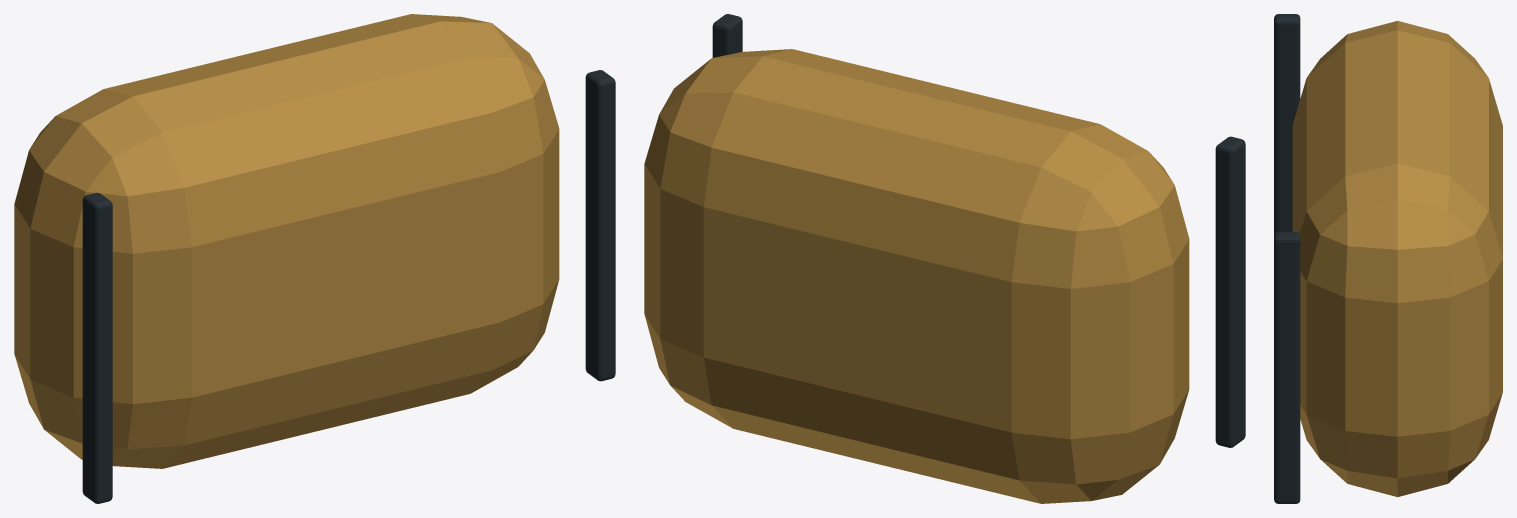
The model's file is APT_Prop_Pillow_Ochre.glb.
3 views of the same model, side by side, from view 1: azimuth 30°, elevation 25°; view 2: azimuth 150°, elevation 25°; view 3: azimuth 270°, elevation 25° (orthographic). The views are drawn at different scales.
Parts seen in each view (by area): view 1: APT_Prop_Pillow_Ochre_Cushion, APT_Prop_Pillow_Ochre_Seam_-0.245, APT_Prop_Pillow_Ochre_Seam_0.245; view 2: APT_Prop_Pillow_Ochre_Cushion, APT_Prop_Pillow_Ochre_Seam_-0.245, APT_Prop_Pillow_Ochre_Seam_0.245; view 3: APT_Prop_Pillow_Ochre_Cushion, APT_Prop_Pillow_Ochre_Seam_0.245, APT_Prop_Pillow_Ochre_Seam_-0.245.
Part boxes in pixels (x1=…): APT_Prop_Pillow_Ochre_Cushion: x1=14, y1=14, x2=559, y2=468; APT_Prop_Pillow_Ochre_Seam_-0.245: x1=82, y1=192, x2=112, y2=503; APT_Prop_Pillow_Ochre_Seam_0.245: x1=585, y1=70, x2=615, y2=381; APT_Prop_Pillow_Ochre_Cushion: x1=644, y1=49, x2=1189, y2=503; APT_Prop_Pillow_Ochre_Seam_-0.245: x1=1215, y1=136, x2=1245, y2=447; APT_Prop_Pillow_Ochre_Seam_0.245: x1=712, y1=14, x2=742, y2=57; APT_Prop_Pillow_Ochre_Cushion: x1=1292, y1=20, x2=1502, y2=497; APT_Prop_Pillow_Ochre_Seam_0.245: x1=1274, y1=232, x2=1300, y2=503; APT_Prop_Pillow_Ochre_Seam_-0.245: x1=1274, y1=14, x2=1300, y2=235.
Size of the model in its own units: 0.508 by 0.34 by 0.2175.
